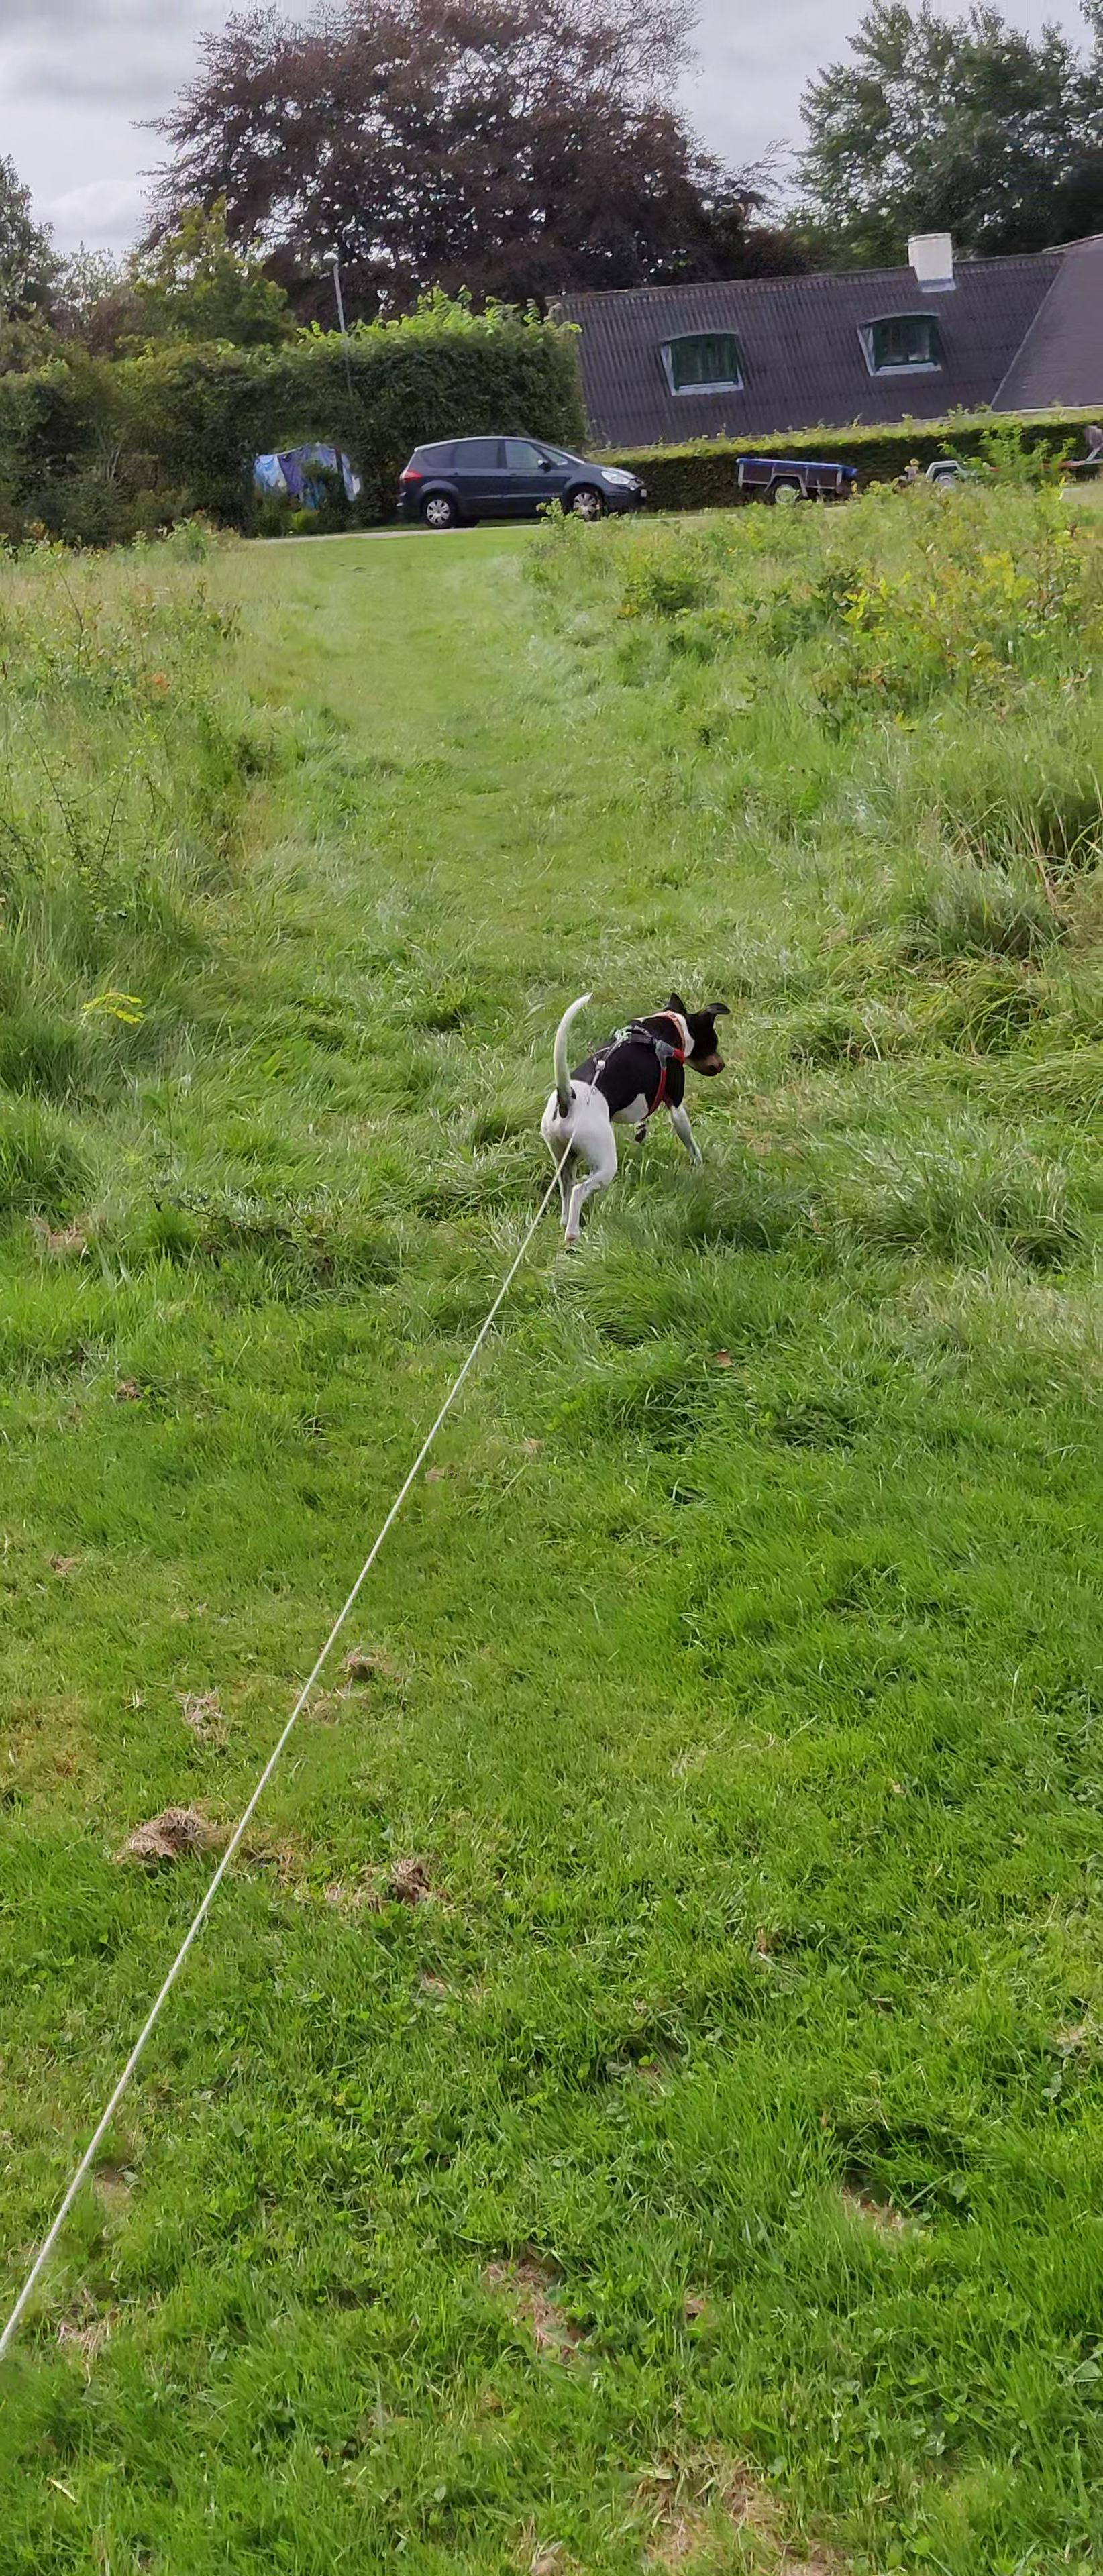Dog: (519, 968, 738, 1253)
